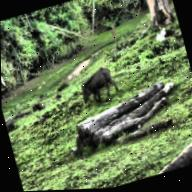boar: (71, 57, 127, 104)
